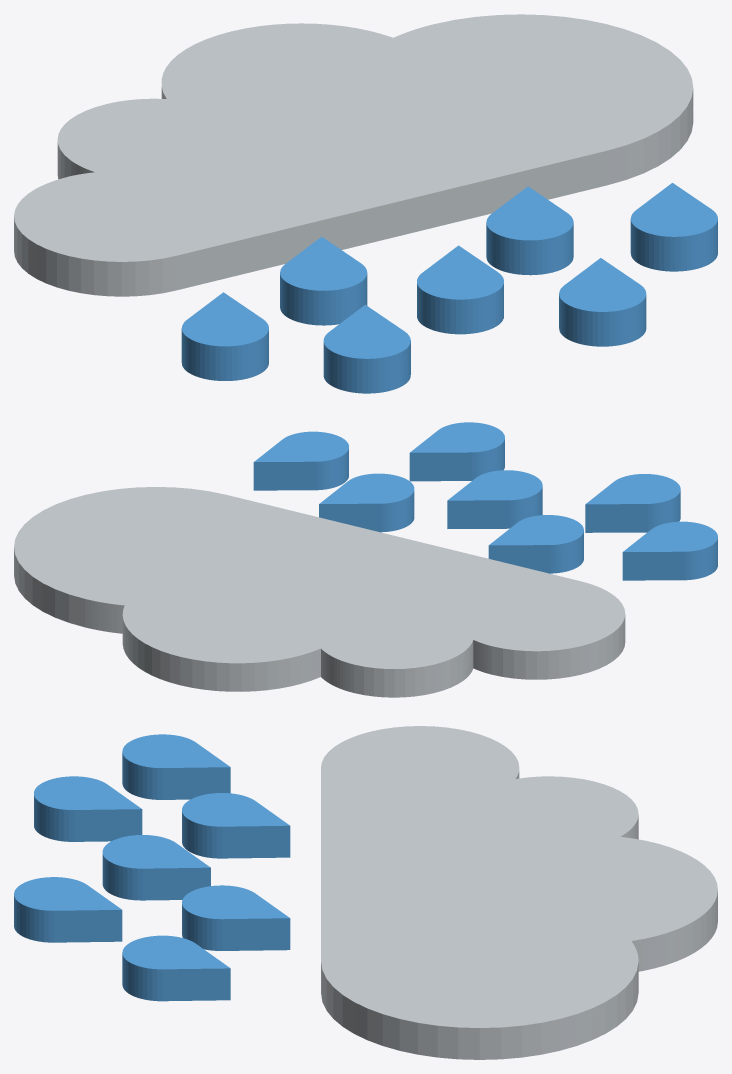
File: rain.gltf
3 views of the same model, one above another, from view 1: azimuth 30°, elevation 25°; view 2: azimuth 150°, elevation 25°; view 3: azimuth 270°, elevation 25° (orthographic). The views are drawn at different scales.
Parts seen in each view (by area): view 1: Curve, Curve.001; view 2: Curve, Curve.001; view 3: Curve, Curve.001.
Boxes of the visible parts, x1,y1,x2,y2 form: Curve: [14, 14, 693, 296]; Curve.001: [181, 183, 717, 393]; Curve: [14, 487, 625, 697]; Curve.001: [253, 422, 717, 580]; Curve: [321, 726, 717, 1059]; Curve.001: [14, 734, 290, 1001].
Bounding box in the file's own units: 2.03 × 0.1 × 2.
